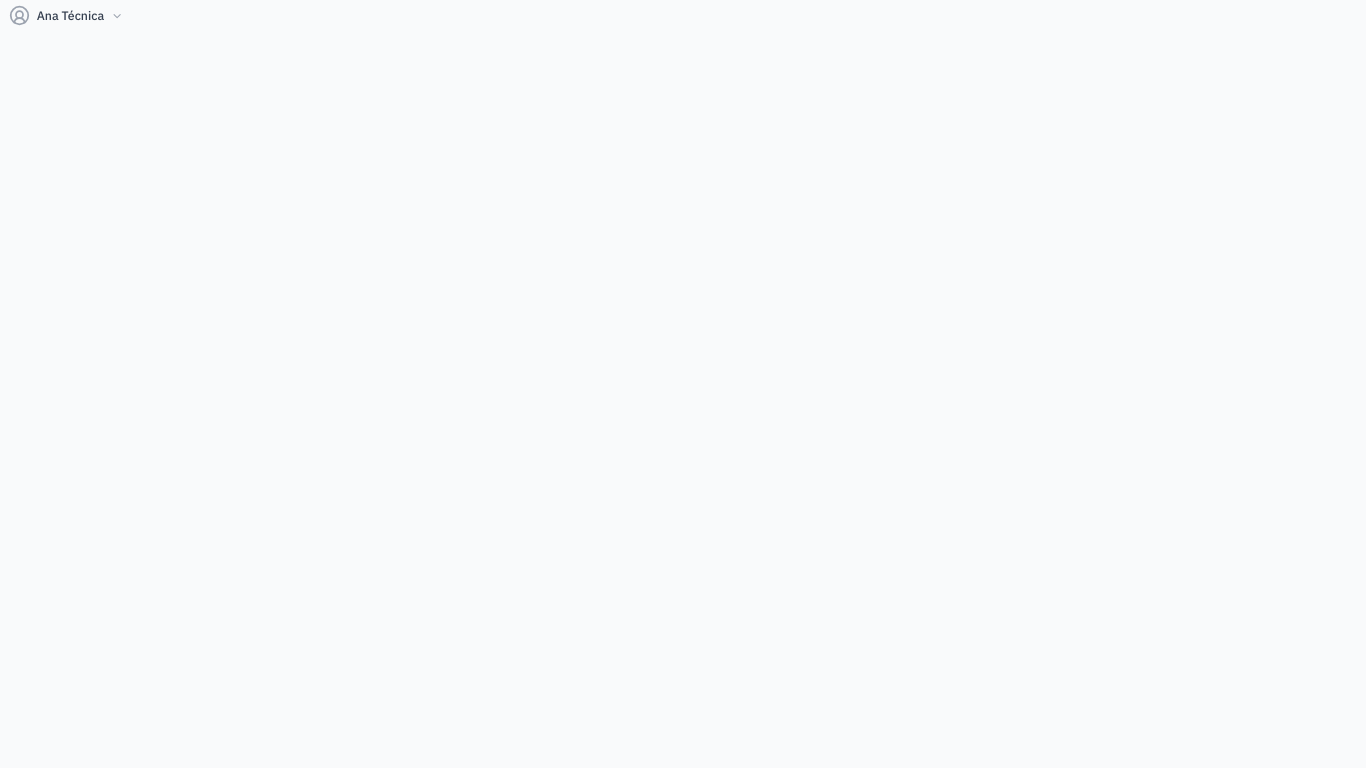
Test case: UserMenu › deve abrir com Meu perfil, Aparência e Sair
Click the button with aria-label "Menu do usuário" at point(66, 16), box [4,0,129,32]
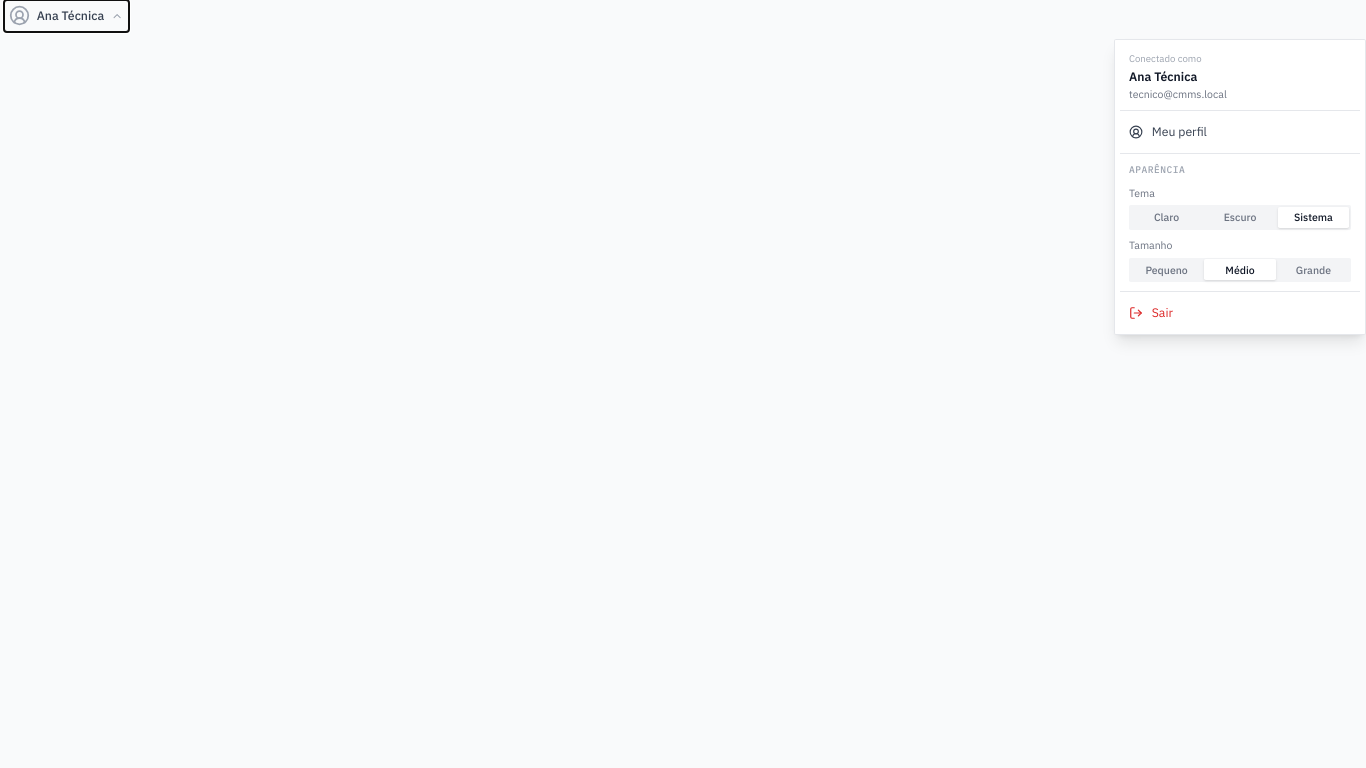
Result: the button "Meu perfil" is enabled at [1120,116,1360,148]
Result: the text "Aparência" is shown at [1129,163,1185,176]
Result: the button "Sair" is shown at [1120,297,1360,329]
